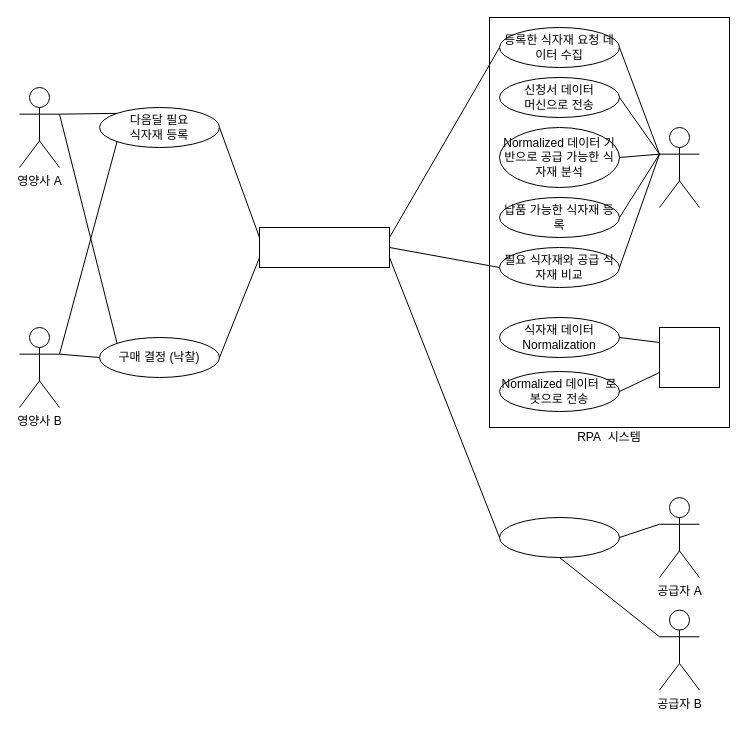
Image size: 747x729. Some labels were removed from this diagram. Each missing label, with the centre of its shape:
공급 가능한 식자재 투찰: [559,537]
로봇: [679,167]
머신러닝 시스템: [689,357]
식자재 입찰 시스템: [324,247]
